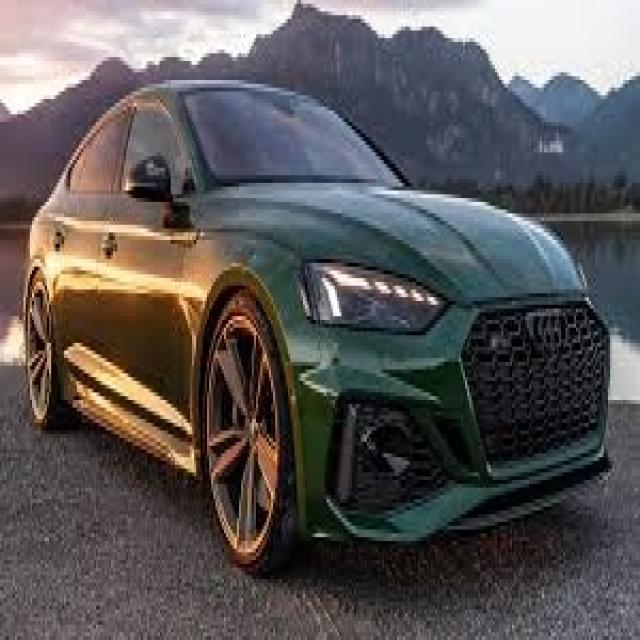green: (20, 83, 610, 577)
